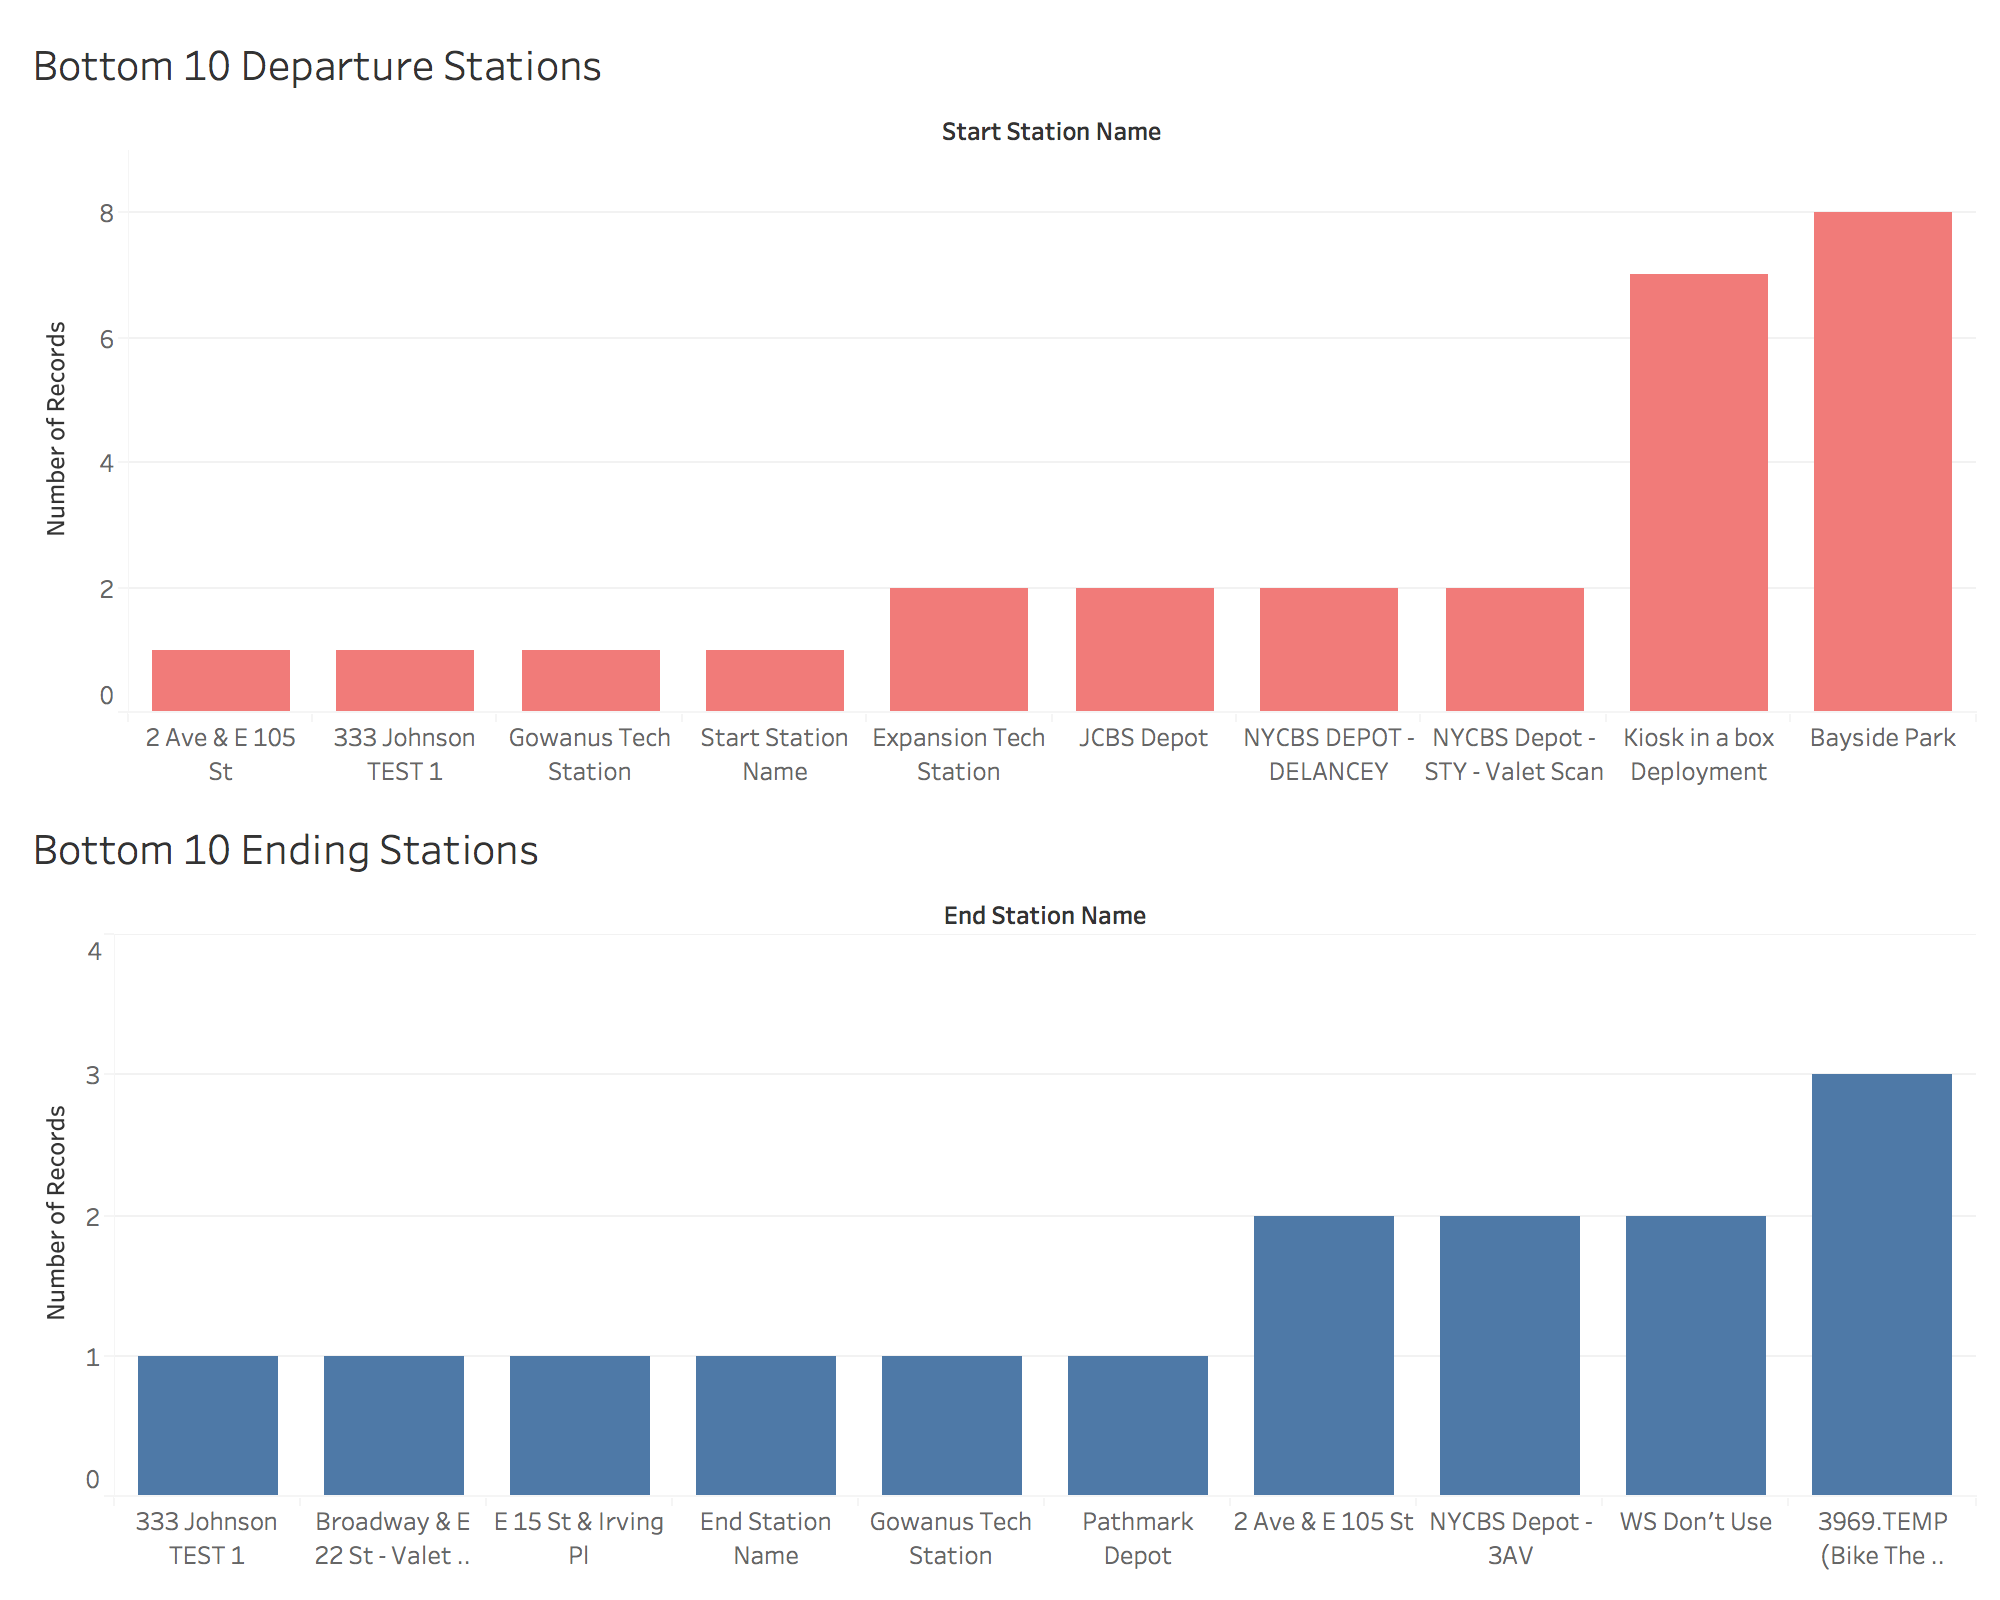

The page's visual inventory and layout, read from the dashboard file:
{"tool":"tableau","page":{"name":"Least Busy Stations","canvas":[1000,800],"ordinal":3},"visuals":[{"type":"worksheet","title":"Bottom 10 Departure Stations","mark":"Automatic","rows":["Number of Records"],"cols":["start station name"],"box":[8,8,984,392]},{"type":"worksheet","title":"Bottom 10 Ending Stations","mark":"Automatic","rows":["Number of Records"],"cols":["end station name"],"box":[8,400,984,392]}]}

Visuals, with their boxes in screenshot pixels (x1, y1, x2, y2), scaled from the page's 1000x800 canvas onto the 2000x1600 screenshot:
"Bottom 10 Departure Stations" worksheet: region(16, 16, 1984, 800)
"Bottom 10 Ending Stations" worksheet: region(16, 800, 1984, 1584)
